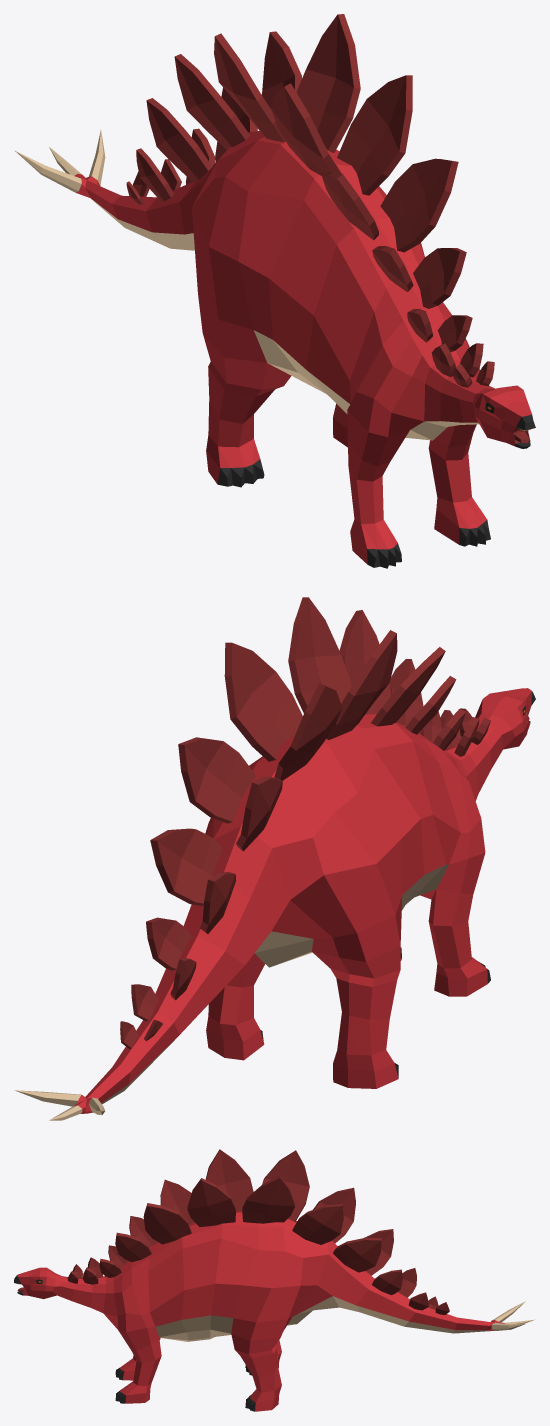
File: stegosaurus.glb
3 renders of one model, top to bottom at view 1: azimuth 30°, elevation 25°; view 2: azimuth 150°, elevation 25°; view 3: azimuth 270°, elevation 25°, orthographic. The views are drawn at different scales.
Parts seen in each view (by area): view 1: stegosaurus; view 2: stegosaurus; view 3: stegosaurus.
Boxes of the visible parts, x1,y1,x2,y2 form: stegosaurus: [14, 14, 535, 568]; stegosaurus: [15, 597, 535, 1120]; stegosaurus: [14, 1149, 534, 1411].
Bounding box in the file's own units: 2.08 × 4.6 × 9.59.
1 material, 1 textured.
